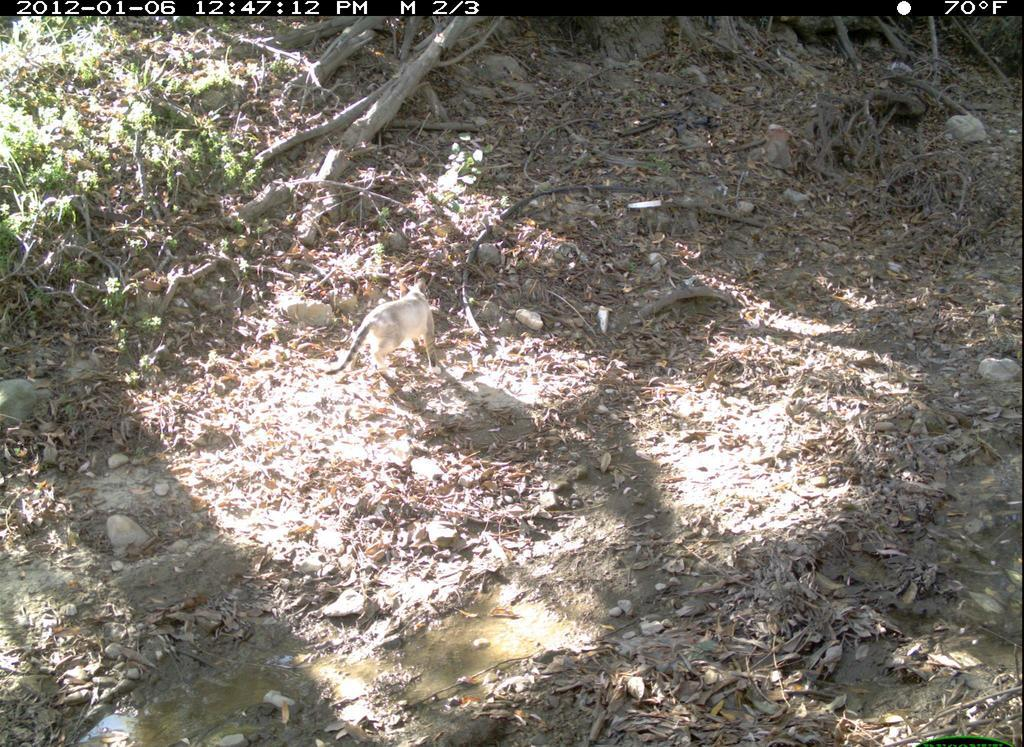cat: (323, 278, 452, 402)
